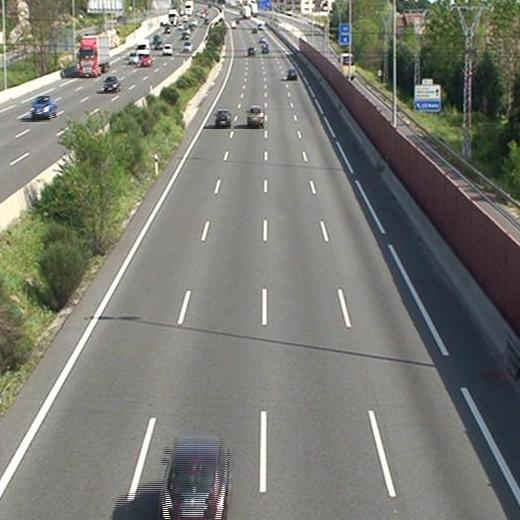car: (161, 436, 229, 520), (247, 106, 263, 125), (215, 110, 232, 126), (287, 69, 297, 80)
